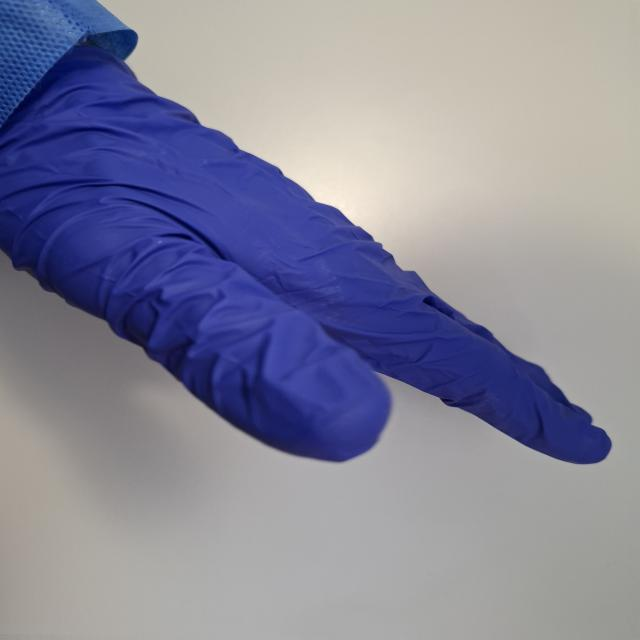glove_on: (0, 34, 618, 469)
